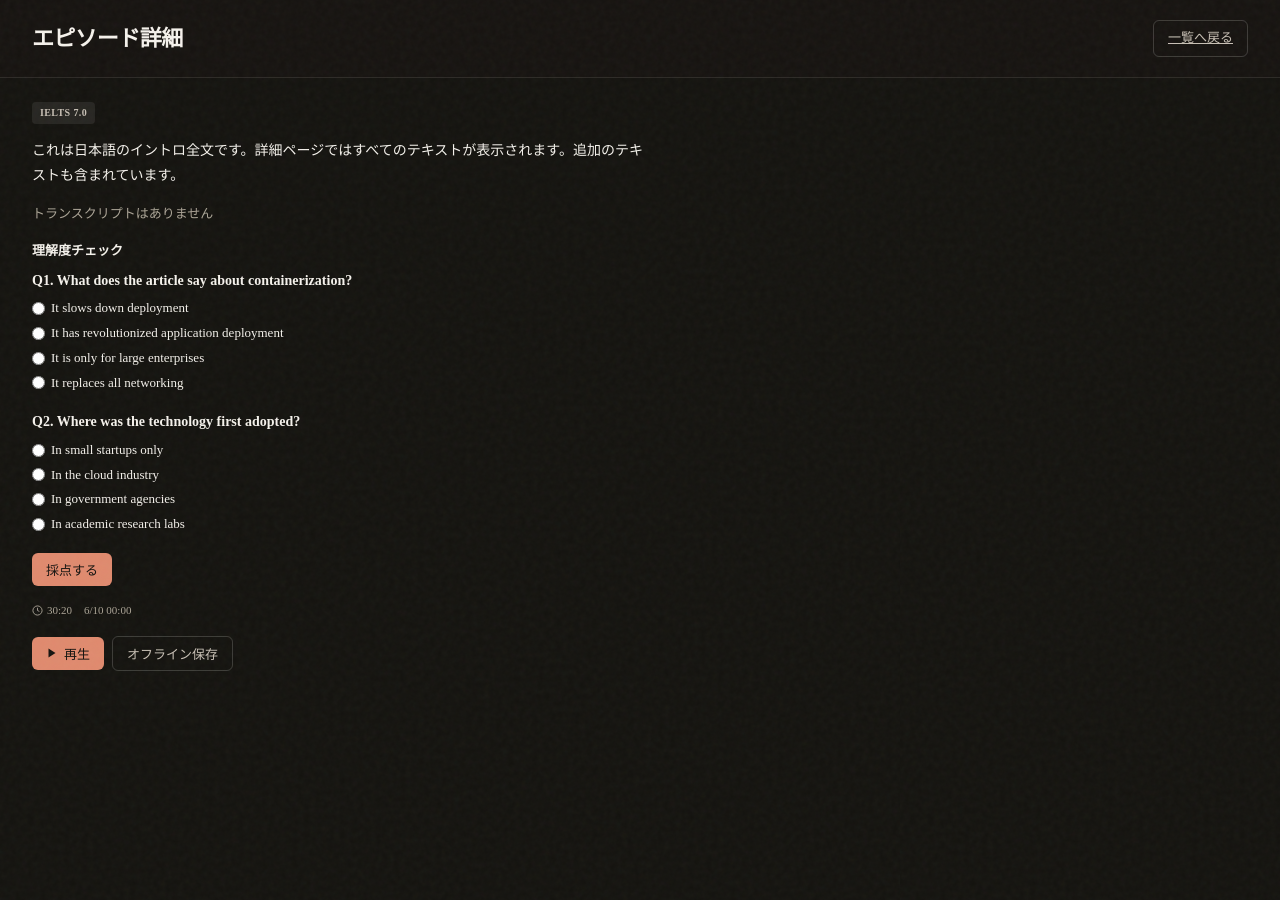
Test: PodcastDetailPage — comprehension quiz (ADR-070) › Given the submission fails, shows an error message and keeps the quiz retryable
Check: the heading "理解度チェック" is shown, box x1=32 y1=243 x2=123 y2=258
Step 1. Click the radio button labelled "It has revolutionized application deployment" → (38, 333), box x1=32 y1=327 x2=45 y2=340
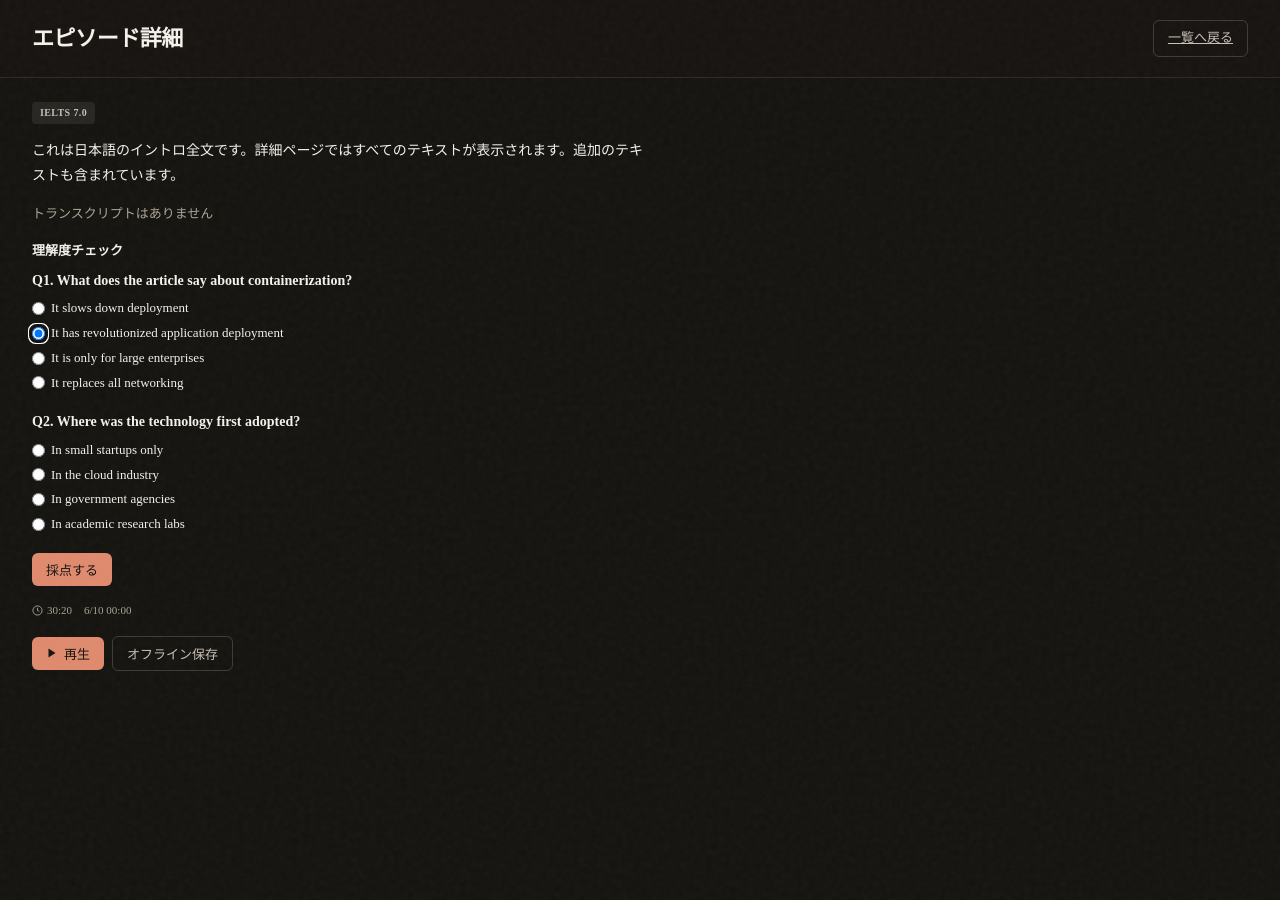
Step 2. Click the radio button labelled "In small startups only" → (38, 450), box x1=32 y1=444 x2=45 y2=457
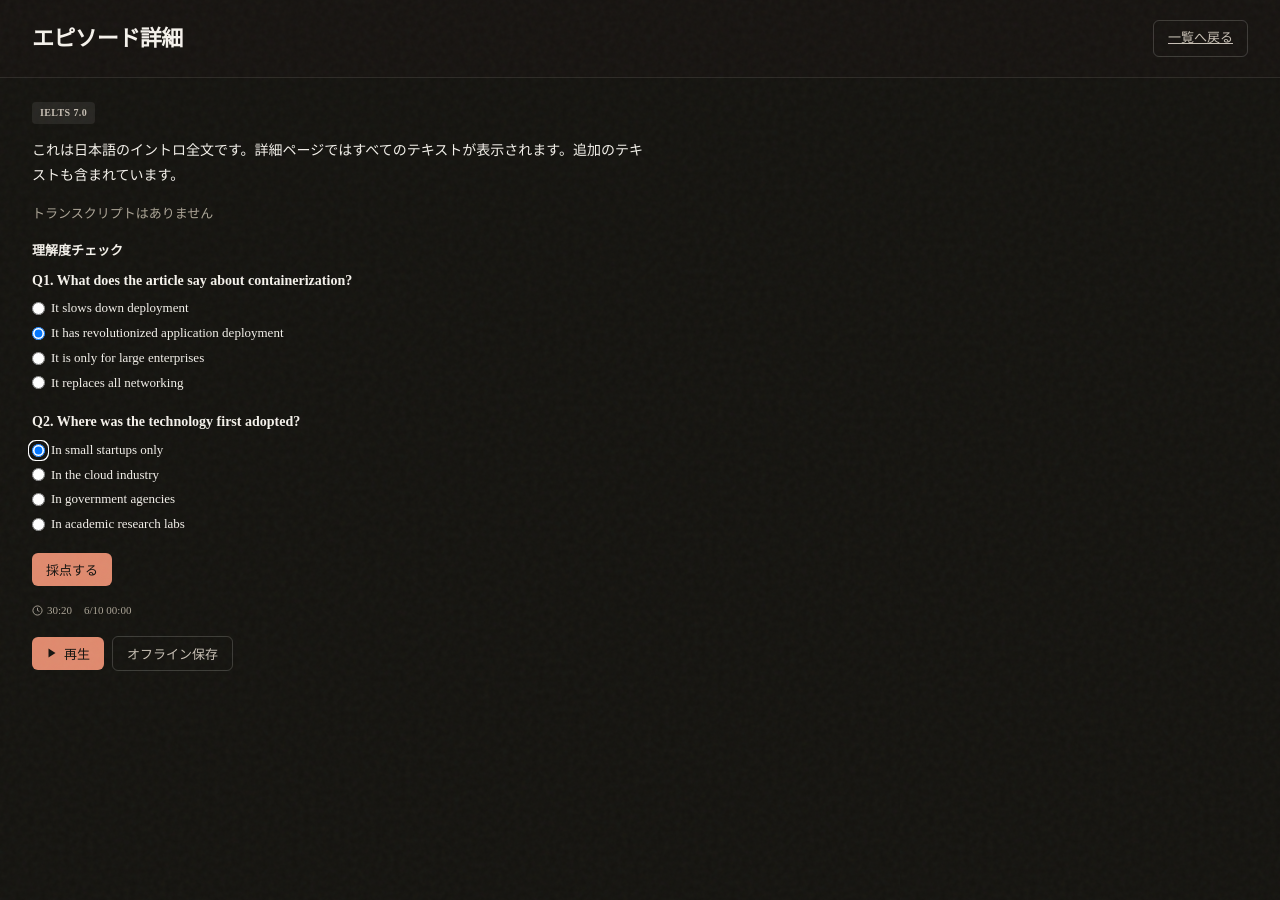
Step 3. Click the button "採点する" → (72, 569), box x1=32 y1=553 x2=112 y2=586
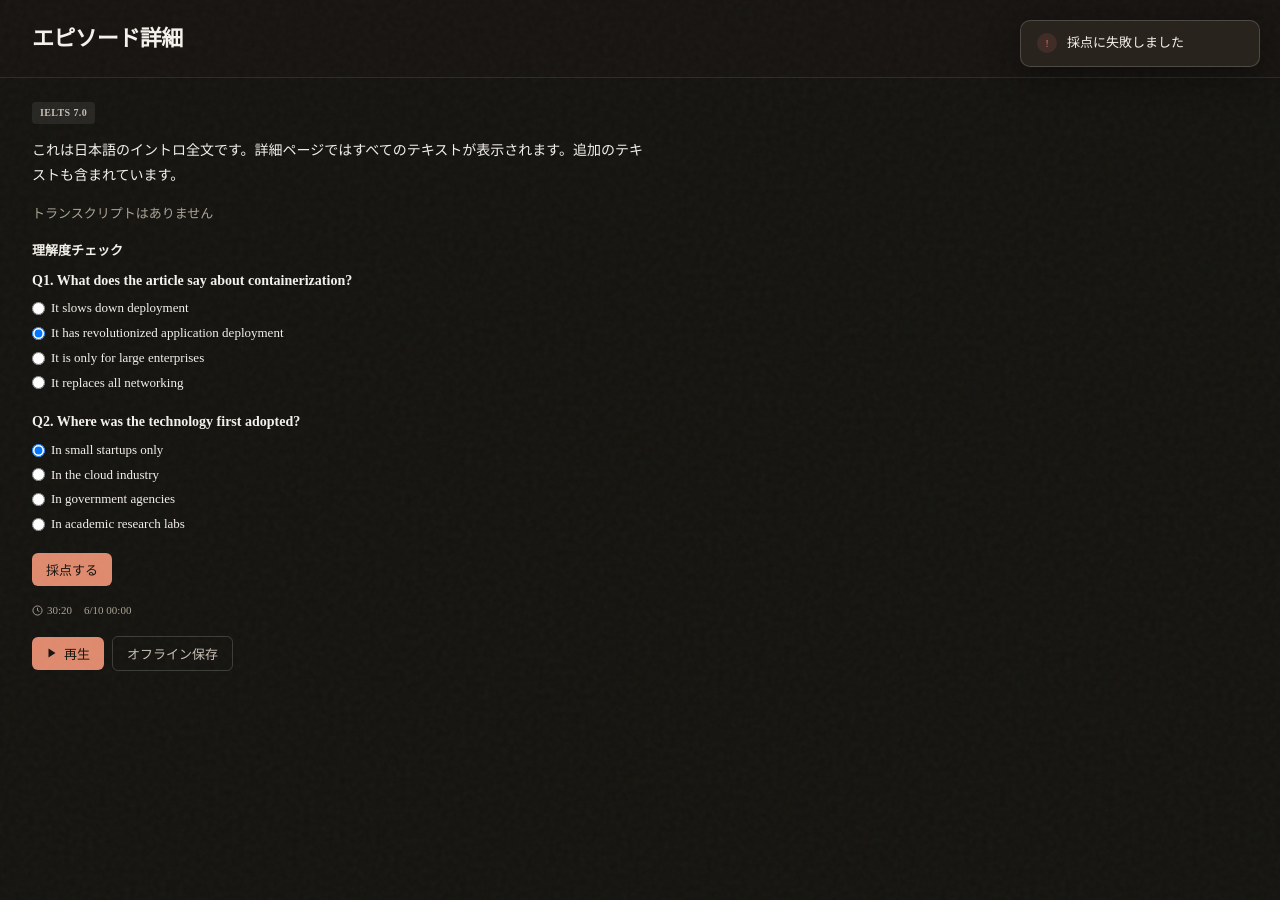
Check: the message shows "採点に失敗しました", box x1=1067 y1=35 x2=1184 y2=50
